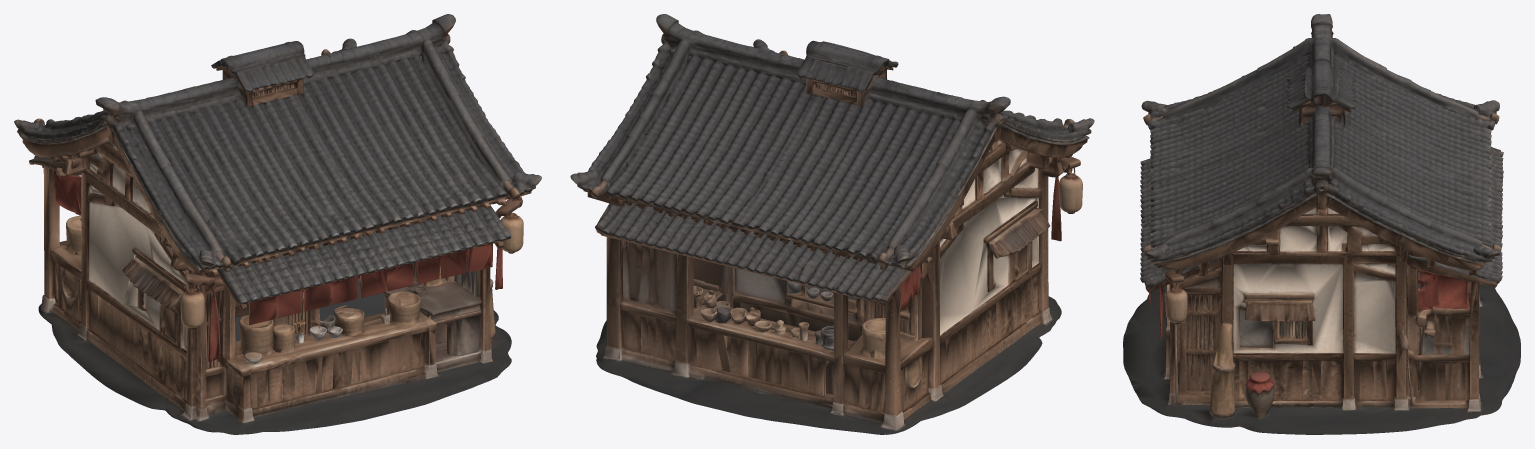
Rendered from 07_Steamed_Food_Shop.fbx.
3 renders of one model, left to right at view 1: azimuth 30°, elevation 25°; view 2: azimuth 150°, elevation 25°; view 3: azimuth 270°, elevation 25°, orthographic. The views are drawn at different scales.
Parts seen in each view (by area): view 1: 07_Steamed_Food_Shop; view 2: 07_Steamed_Food_Shop; view 3: 07_Steamed_Food_Shop.
Boxes of the visible parts, left/top/right/bottom form: 07_Steamed_Food_Shop: left=14, top=14, right=541, bottom=434; 07_Steamed_Food_Shop: left=570, top=14, right=1094, bottom=434; 07_Steamed_Food_Shop: left=1123, top=14, right=1520, bottom=434.
Bounding box in the file's own units: 7.41 × 5.5 × 7.43.
